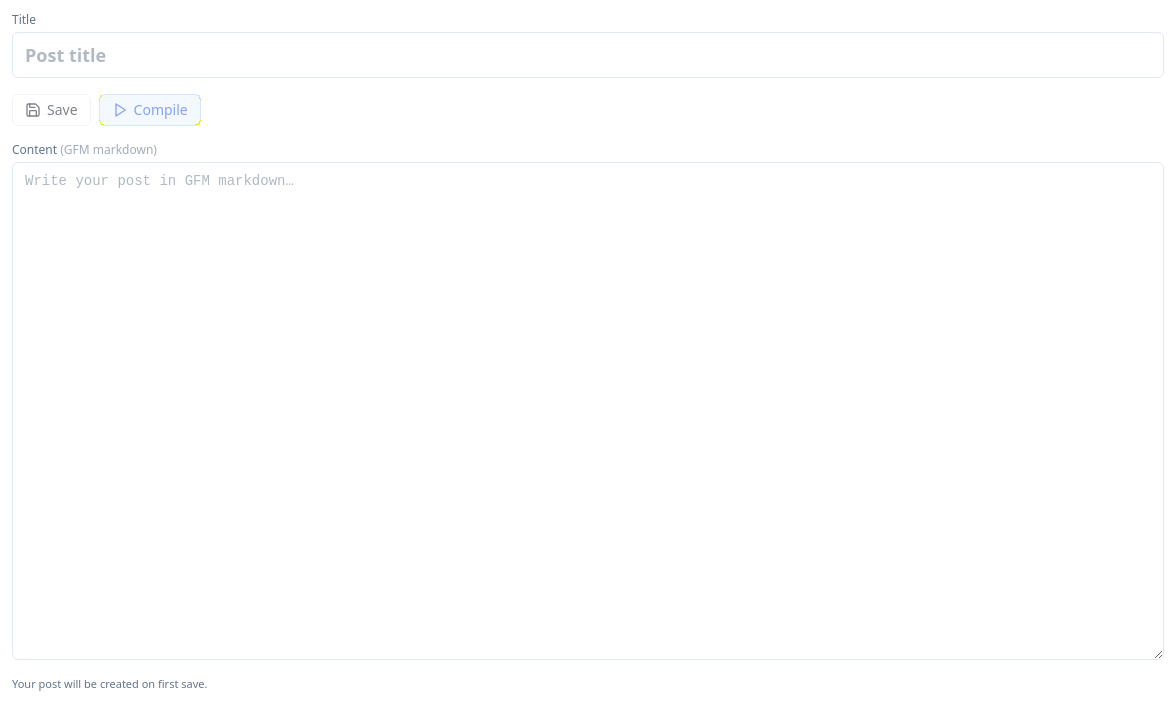
Test: BlogEditor manual save (create) › shows inline error when createBlogPost fails
In the field labelled "Title": {"x": 588, "y": 55} [12,32,1164,78], type "Failing post"
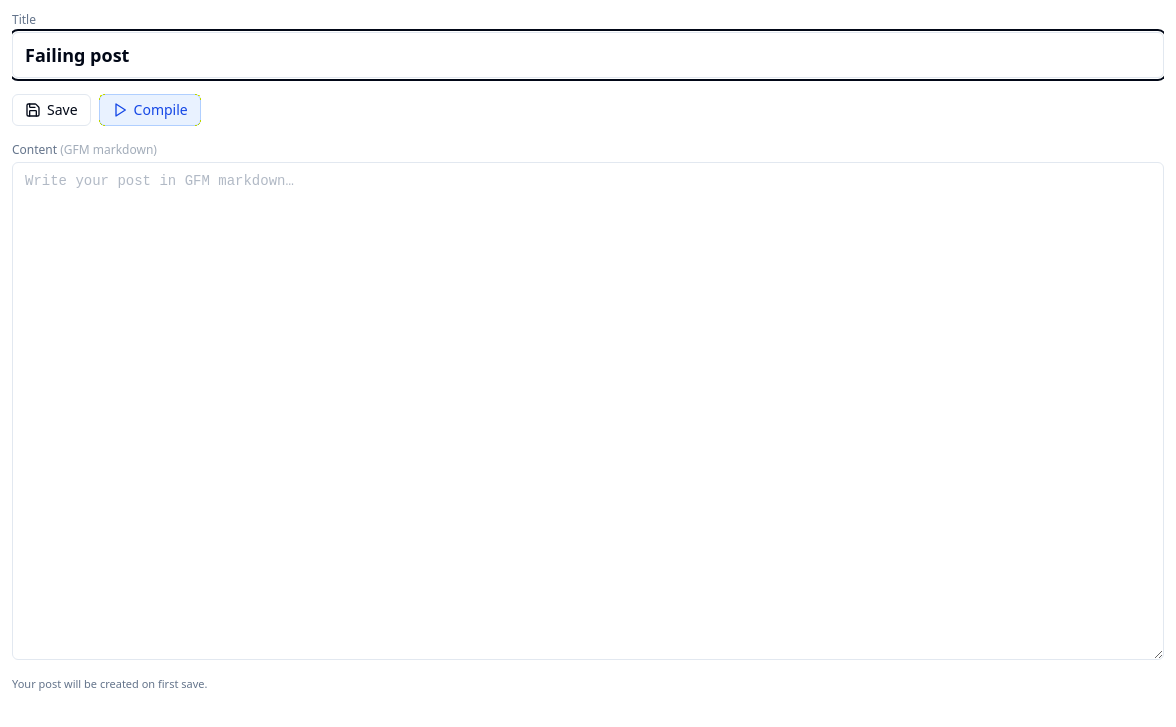
In the text box named "post content": {"x": 588, "y": 411} [12,162,1164,660], type "Content"
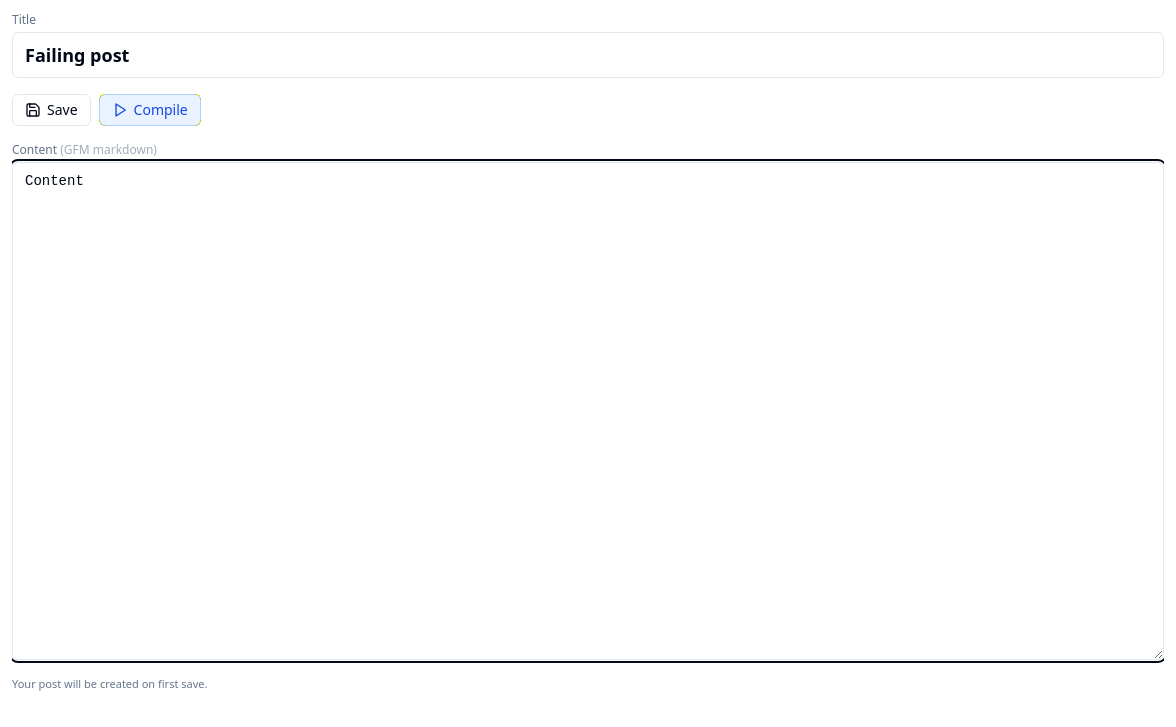
Click the button with aria-label "save post": {"x": 51, "y": 110} [12,94,91,126]
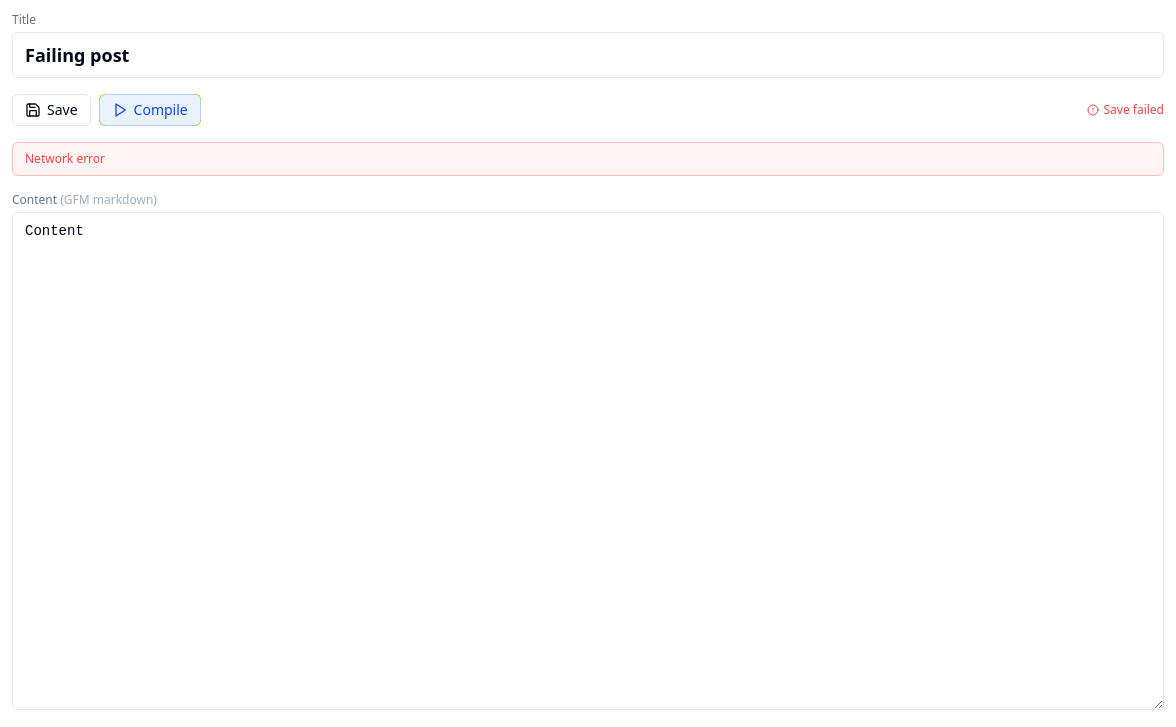
Result: the text "Network error" is shown at [12,142,1164,176]
